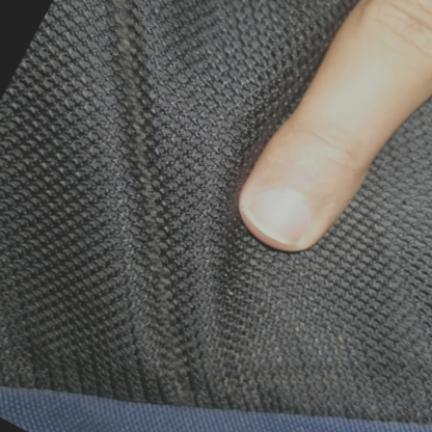Nail: (244, 187, 311, 245)
